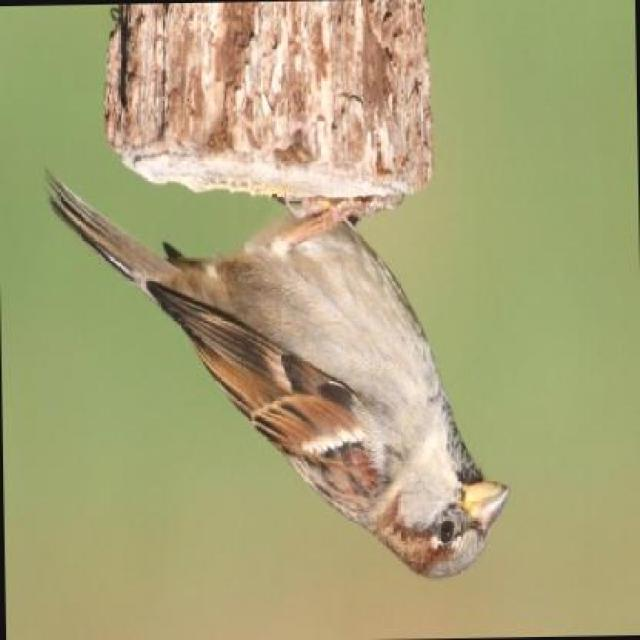Bird: (39, 157, 507, 580)
